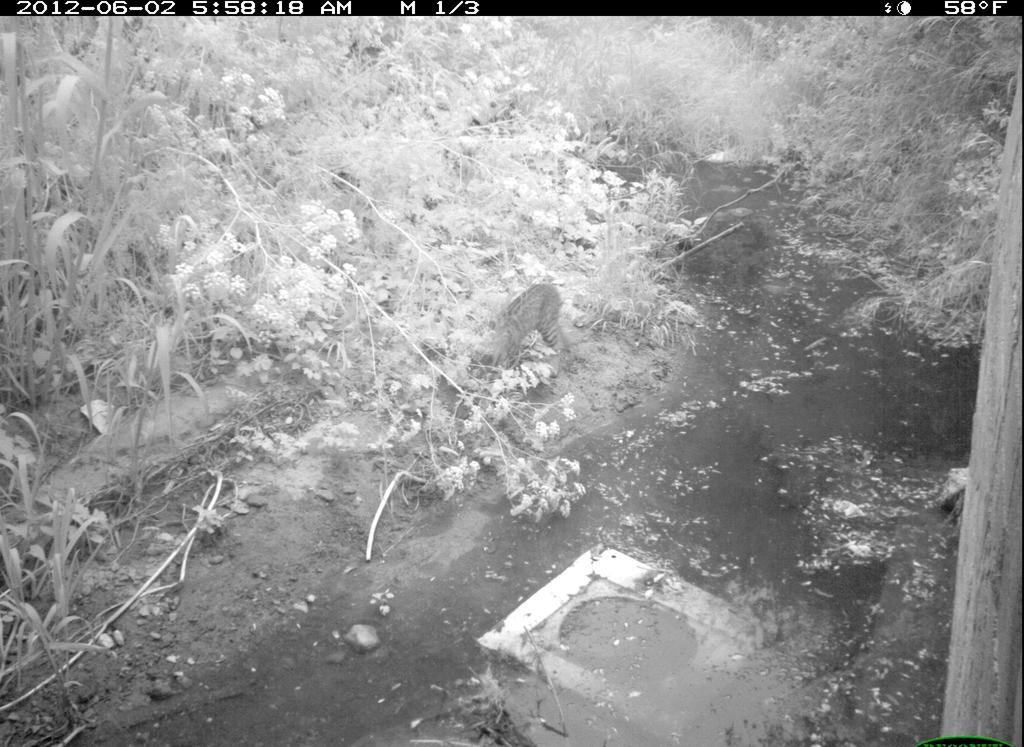bobcat: (474, 265, 601, 395)
